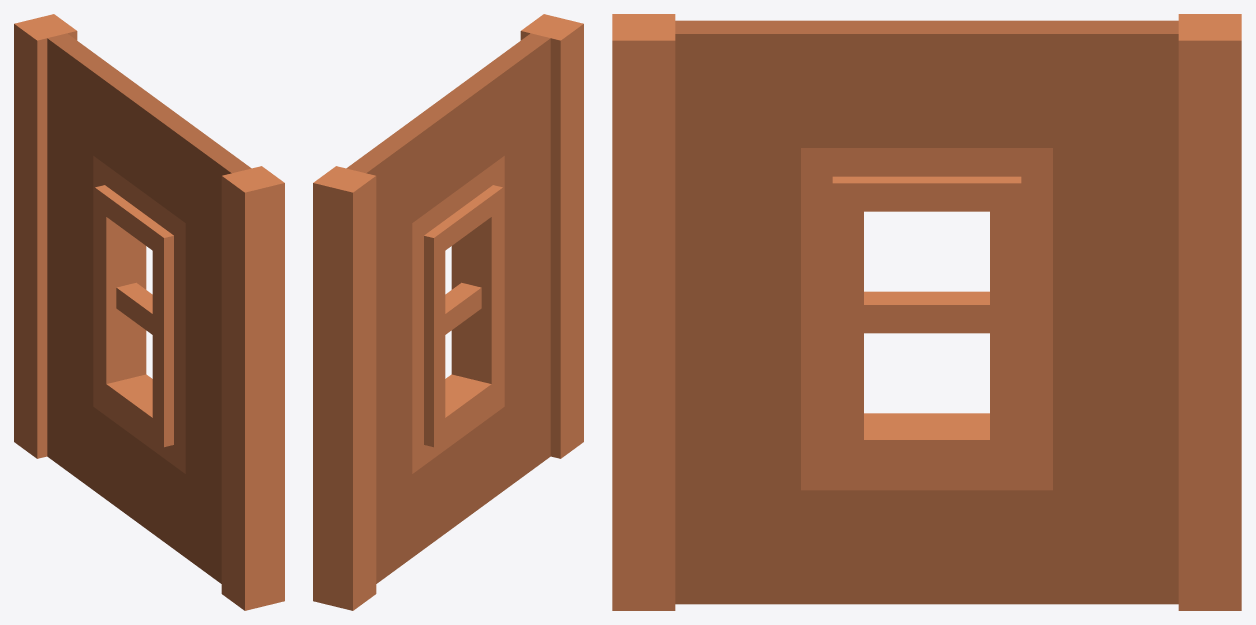
The model's file is wallWoodWindowGlass.fbx.
3 views of the same model, side by side, from view 1: azimuth 30°, elevation 25°; view 2: azimuth 150°, elevation 25°; view 3: azimuth 270°, elevation 25° (orthographic). The views are drawn at different scales.
Visible parts, largest first — view 1: wallWoodWindowGlass; view 2: wallWoodWindowGlass; view 3: wallWoodWindowGlass.
Part boxes in pixels (x1,y1,x2,y2): wallWoodWindowGlass: (14, 14, 284, 610); wallWoodWindowGlass: (313, 14, 583, 610); wallWoodWindowGlass: (612, 14, 1241, 610).
Bounding box in the file's own units: 1 × 10 × 10.
